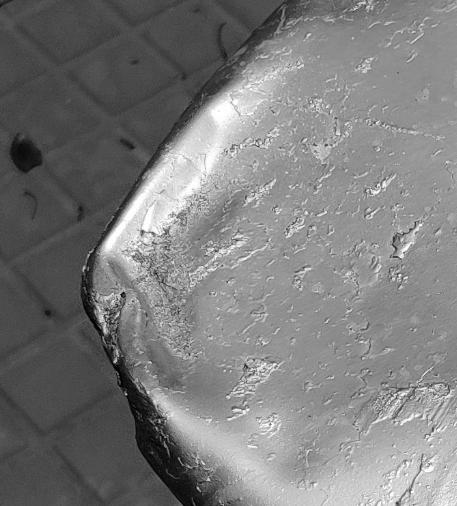dent: (0, 1, 457, 506)
